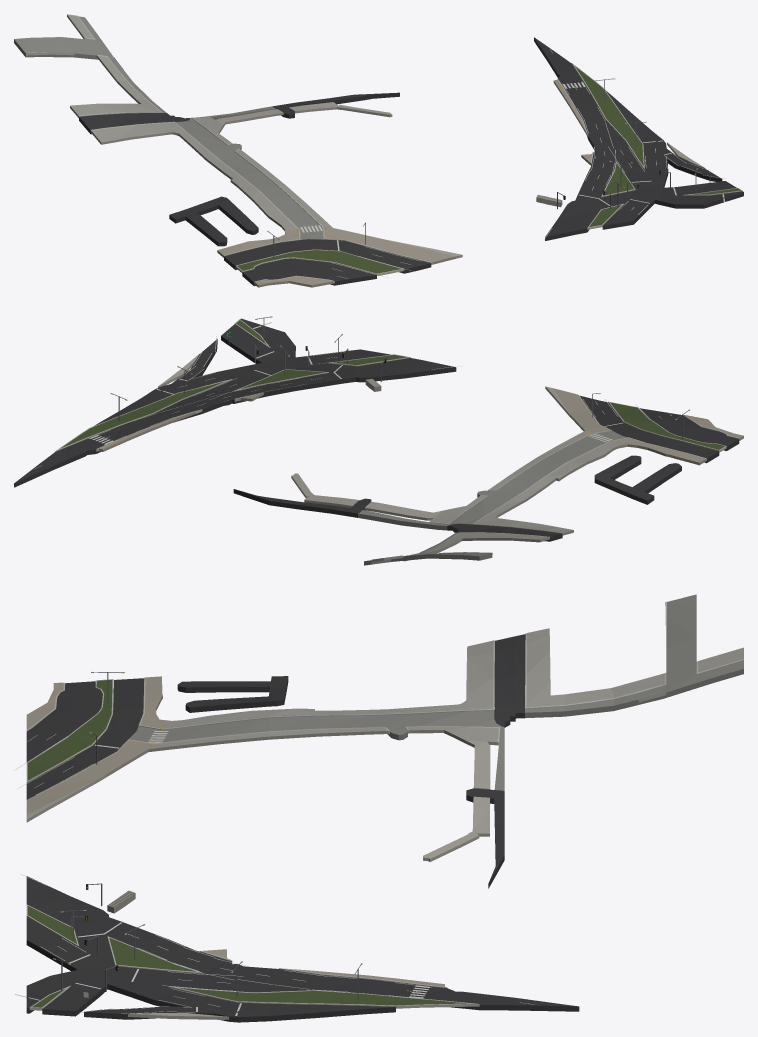
The picture shows the model from 3 angles, top to bottom: view 1: azimuth 30°, elevation 25°; view 2: azimuth 150°, elevation 25°; view 3: azimuth 270°, elevation 25°; orthographic projection. The views are drawn at different scales.
Size of the model in its own units: 148 by 27.63 by 148.
